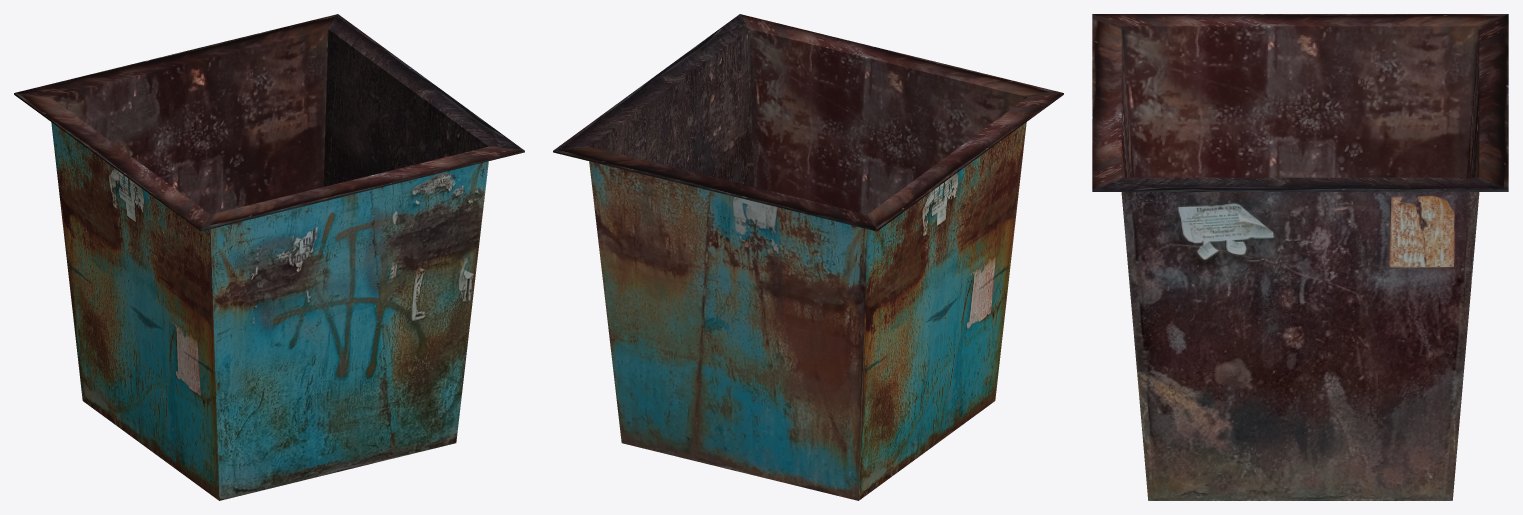
3 renders of one model, left to right at view 1: azimuth 30°, elevation 25°; view 2: azimuth 150°, elevation 25°; view 3: azimuth 270°, elevation 25°, orthographic. The views are drawn at different scales.
Visible parts, largest first — view 1: DumpsterRussian01; view 2: DumpsterRussian01; view 3: DumpsterRussian01.
Part boxes in pixels (x1=…): DumpsterRussian01: x1=14, y1=14, x2=524, y2=500; DumpsterRussian01: x1=553, y1=14, x2=1063, y2=500; DumpsterRussian01: x1=1092, y1=14, x2=1508, y2=500.
Size of the model in its own units: 0.9327 by 0.8256 by 0.9316.
